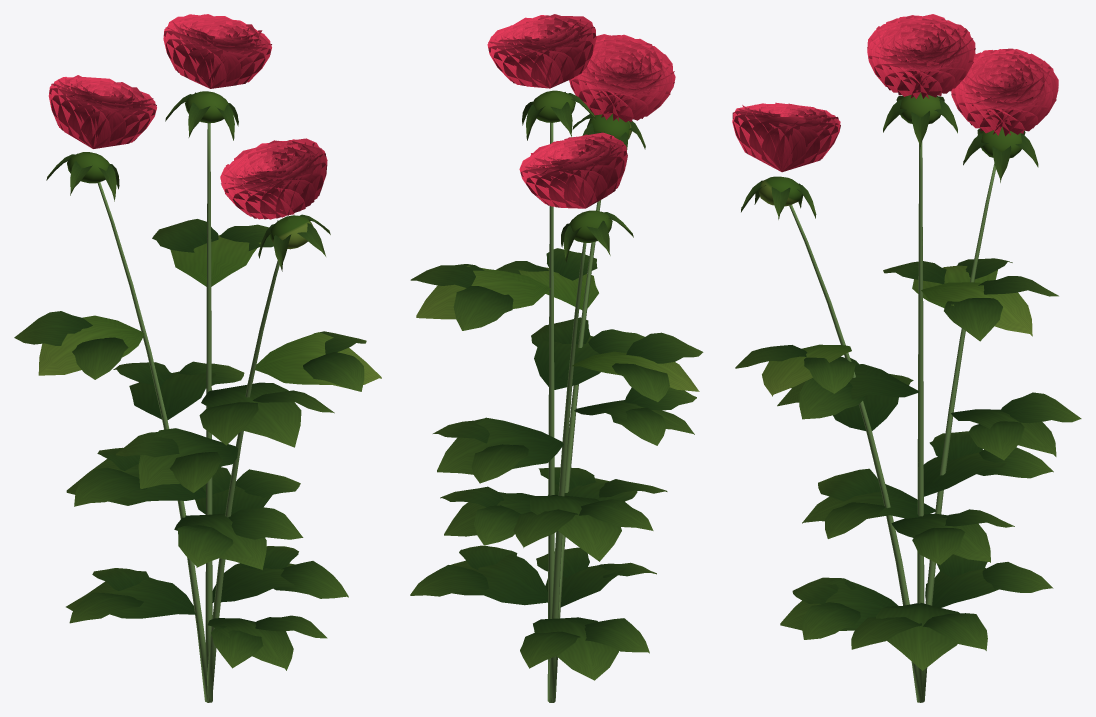
Rendered from rose-09-lod.glb.
The picture shows the model from 3 angles, left to right: view 1: azimuth 30°, elevation 25°; view 2: azimuth 150°, elevation 25°; view 3: azimuth 270°, elevation 25°; orthographic projection.
Visible parts, largest first — view 1: rose_stage_09_leaf_veins.017, rose_stage_09_rose_petal.017, rose_stage_09_young_leaf.017, rose_stage_09_stem_fibres.017; view 2: rose_stage_09_leaf_veins.017, rose_stage_09_rose_petal.017, rose_stage_09_young_leaf.017, rose_stage_09_stem_fibres.017; view 3: rose_stage_09_leaf_veins.017, rose_stage_09_rose_petal.017, rose_stage_09_young_leaf.017, rose_stage_09_stem_fibres.017.
Part boxes in pixels (x1,y1,x2,y2): rose_stage_09_leaf_veins.017: (14,92,366,670); rose_stage_09_rose_petal.017: (48,14,327,219); rose_stage_09_young_leaf.017: (38,91,381,387); rose_stage_09_stem_fibres.017: (97,123,279,702); rose_stage_09_leaf_veins.017: (410,92,703,680); rose_stage_09_rose_petal.017: (487,14,675,208); rose_stage_09_young_leaf.017: (416,90,699,391); rose_stage_09_stem_fibres.017: (547,122,600,702); rose_stage_09_leaf_veins.017: (735,95,1081,670); rose_stage_09_rose_petal.017: (732,14,1058,172); rose_stage_09_young_leaf.017: (758,92,1032,396); rose_stage_09_stem_fibres.017: (789,141,995,702).
Size of the model in its own units: 0.3268 by 0.7401 by 0.3487.
Materials: 4 (3 with a texture image).
